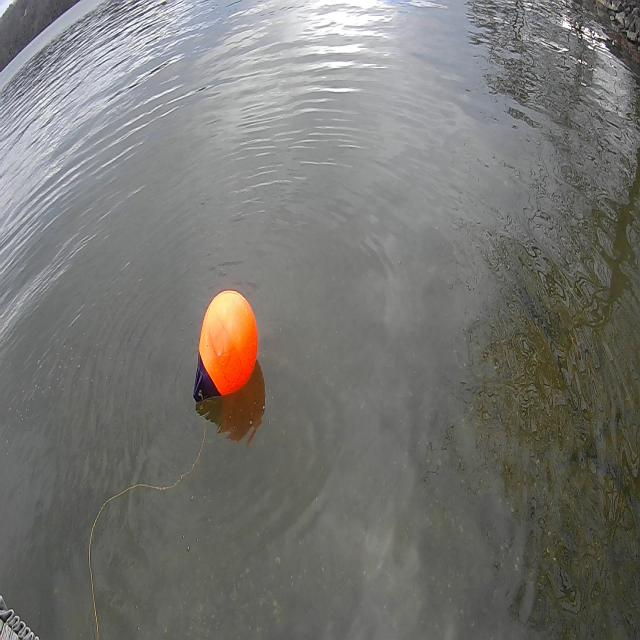Buoy: (190, 282, 260, 410)
